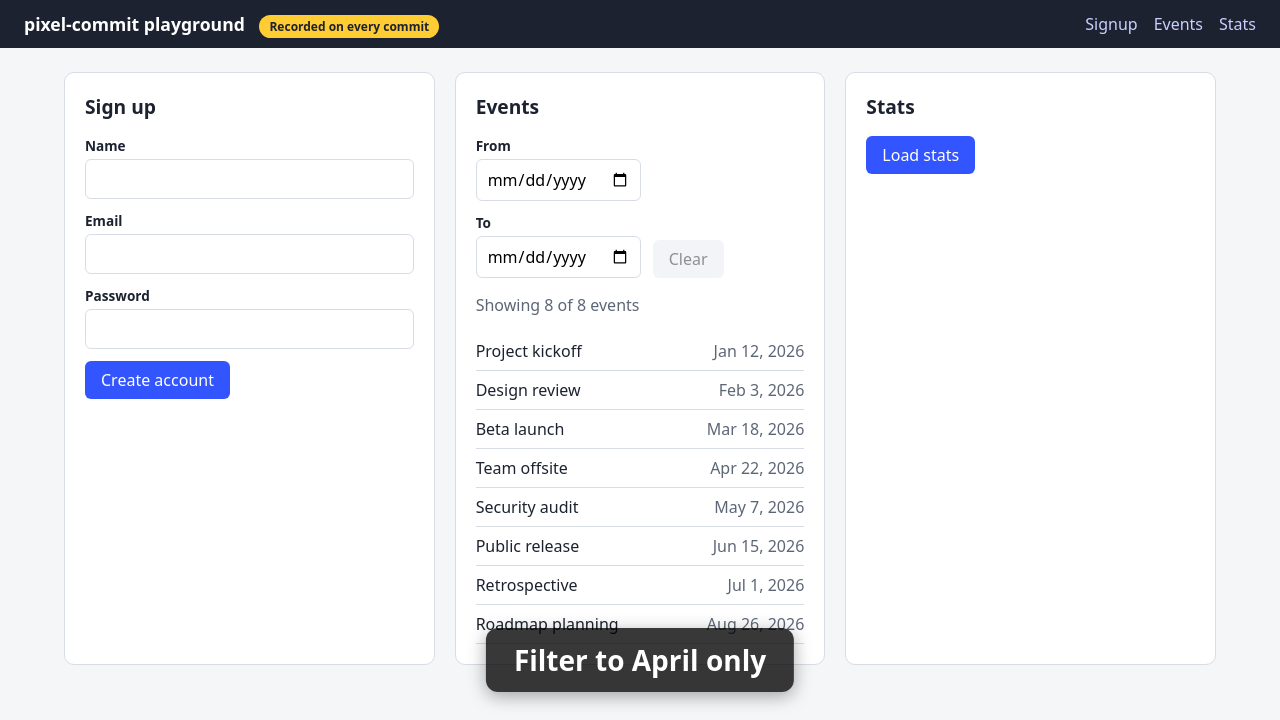
Test: Events date filter › restores the full list when the filter is cleared
In the date field with test id "filter-from": (559, 180) [476,159,641,201], type "2026-04-01"
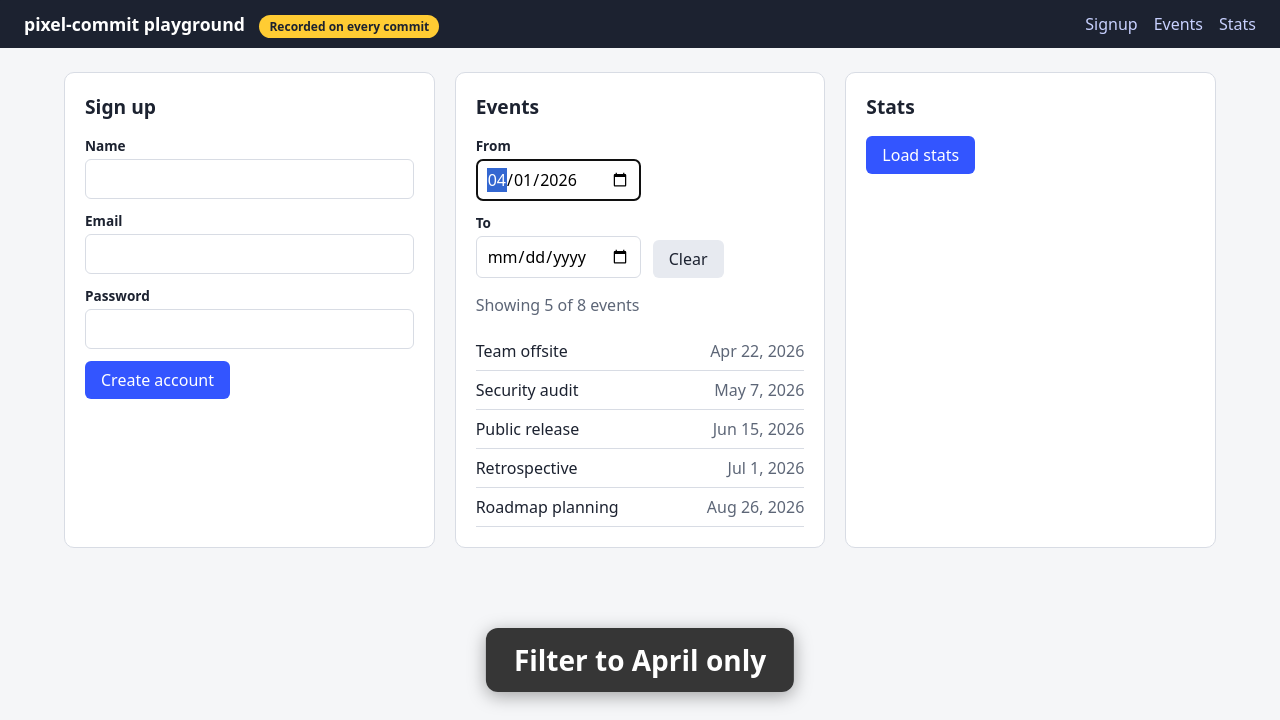
In the date field with test id "filter-to": (559, 257) [476,236,641,278], type "2026-04-30"
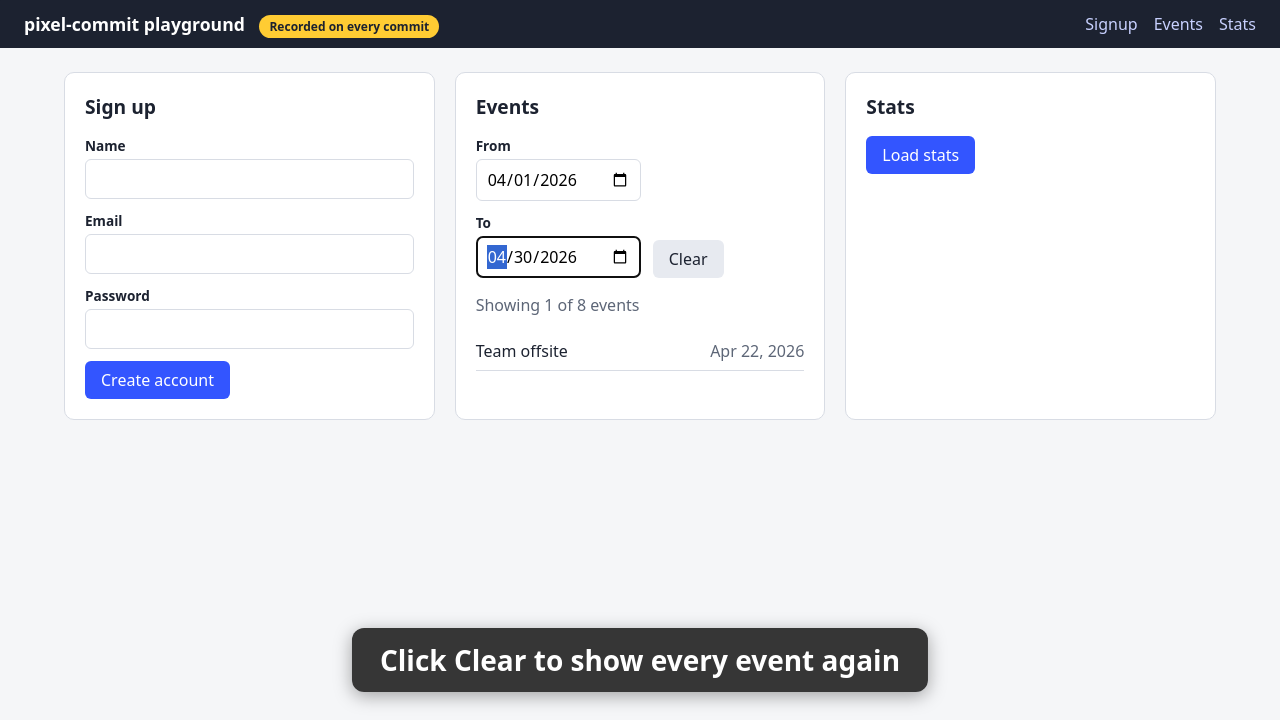
Expected: the list item with test id "event-item" shows "Team offsite", [476,332,805,371]
Expected: the number of list items with test id "event-item" is 1, [476,332,805,371]
Click the button with test id "filter-clear": (689, 259) [653,240,724,278]
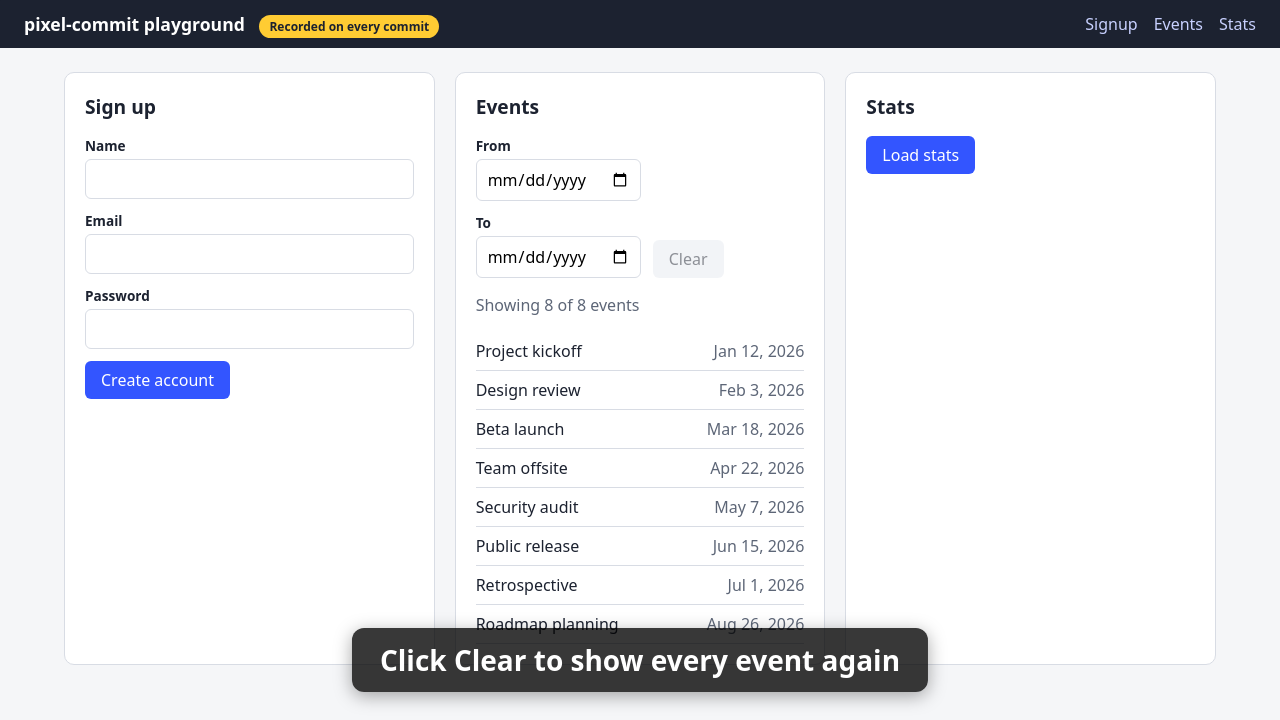
Expected: the number of list items with test id "event-item" is 8
